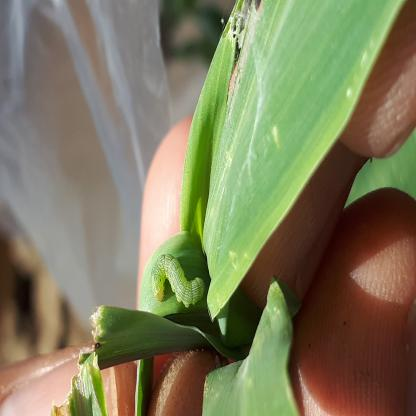armyworm: (58, 249, 96, 379)
